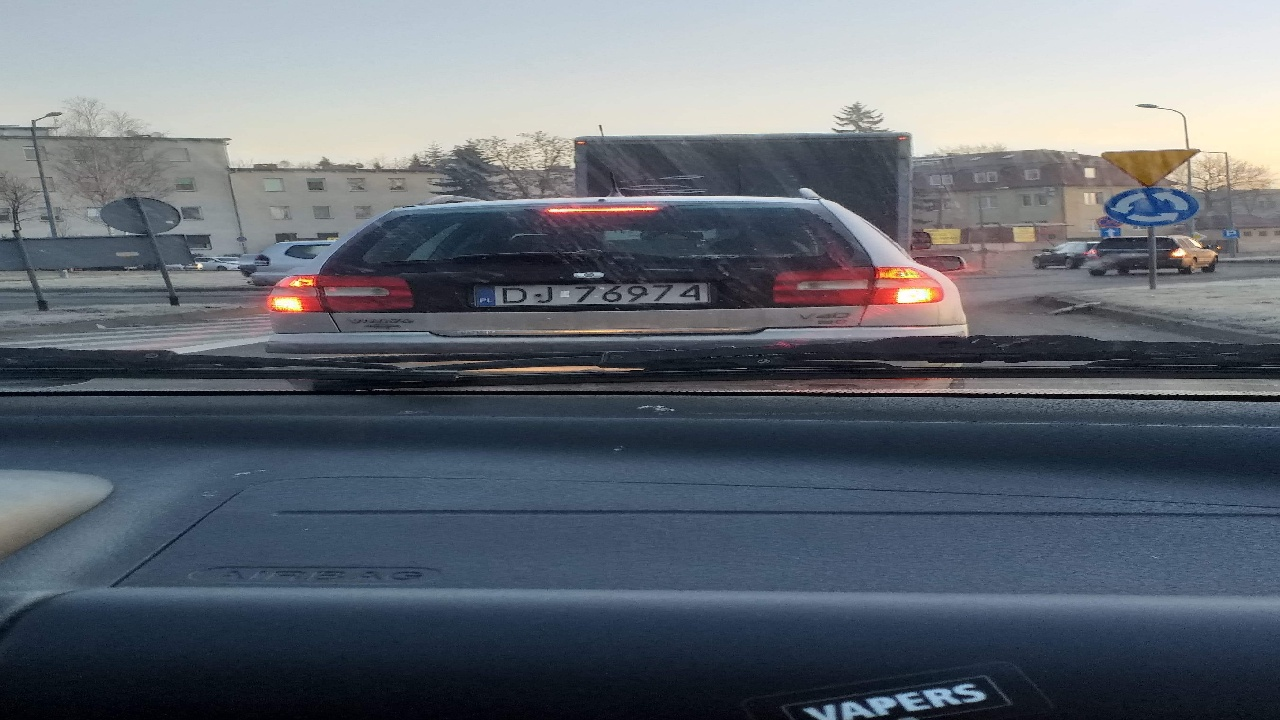A7: (1102, 149, 1200, 186)
C12: (1105, 187, 1199, 226)
